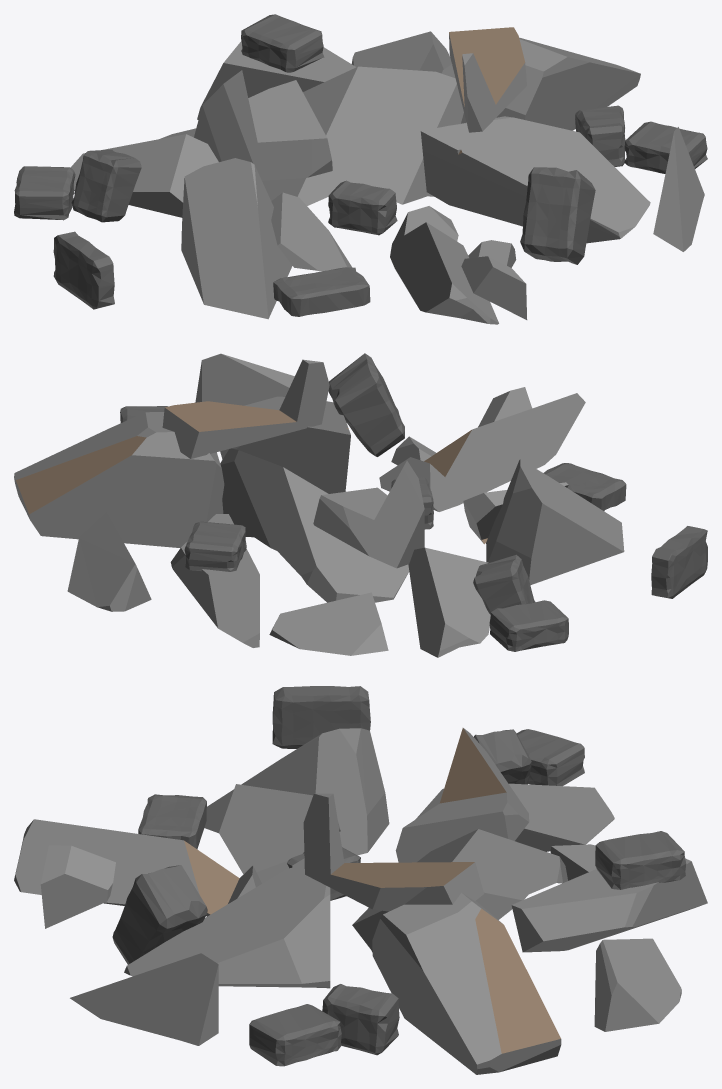
File: Bridge shards 1.fbx
The picture shows the model from 3 angles, top to bottom: view 1: azimuth 30°, elevation 25°; view 2: azimuth 150°, elevation 25°; view 3: azimuth 270°, elevation 25°; orthographic projection. The views are drawn at different scales.
Parts seen in each view (by area): view 1: Bridge shards 1; view 2: Bridge shards 1; view 3: Bridge shards 1.
Boxes of the visible parts, bbox=[...] form: Bridge shards 1: bbox=[14, 14, 707, 324]; Bridge shards 1: bbox=[14, 353, 707, 657]; Bridge shards 1: bbox=[14, 686, 707, 1074].
Size of the model in its own units: 12.68 by 3.03 by 10.81.
